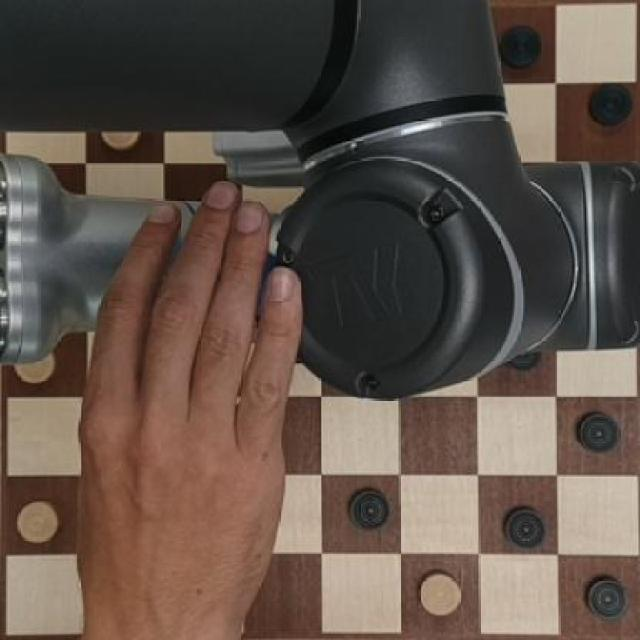black: (576, 74, 634, 140), (493, 496, 552, 558), (331, 482, 393, 538), (579, 568, 631, 624), (498, 20, 545, 79), (570, 409, 625, 458)
white: (415, 566, 466, 626), (10, 492, 62, 550)
